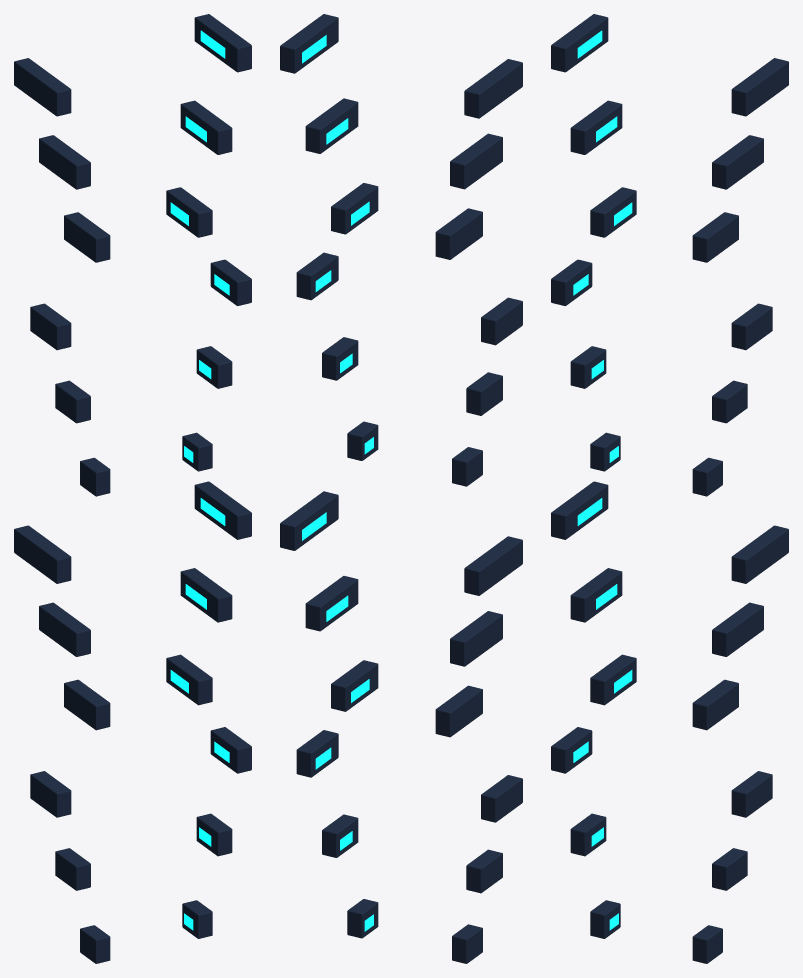
The model's file is NeonCityBackdrop.fbx.
3 renders of one model, left to right at view 1: azimuth 30°, elevation 25°; view 2: azimuth 150°, elevation 25°; view 3: azimuth 330°, elevation 25°, orthographic. The views are drawn at different scales.
Visible parts, largest first — view 1: City_L_11, City_L_05, City_L_10, City_L_04, City_R_05, City_R_11, City_R_04, City_R_10, City_L_03, City_L_09, City_R_09, City_R_03 (+12 smaller); view 2: City_L_05, City_L_11, City_L_10, City_L_04, City_R_11, City_R_05, City_R_10, City_R_04, City_L_09, City_L_03, City_R_03, City_R_09 (+12 smaller); view 3: City_R_11, City_R_05, City_R_10, City_R_04, City_L_05, City_L_11, City_L_04, City_L_10, City_R_03, City_R_09, City_L_09, City_L_03 (+12 smaller).
Boxes of the visible parts, bbox=[...] form: City_L_11: bbox=[14, 58, 71, 116]; City_L_05: bbox=[14, 525, 71, 583]; City_L_10: bbox=[39, 135, 90, 189]; City_L_04: bbox=[39, 602, 90, 656]; City_R_05: bbox=[194, 481, 251, 539]; City_R_11: bbox=[194, 14, 251, 72]; City_R_04: bbox=[180, 568, 232, 622]; City_R_10: bbox=[180, 100, 232, 154]; City_L_03: bbox=[64, 679, 110, 730]; City_L_09: bbox=[64, 212, 110, 262]; City_R_09: bbox=[166, 187, 212, 237]; City_R_03: bbox=[166, 654, 212, 705]; City_L_05: bbox=[464, 536, 522, 595]; City_L_11: bbox=[464, 59, 522, 118]; City_L_10: bbox=[450, 133, 502, 189]; City_L_04: bbox=[450, 611, 502, 666]; City_R_11: bbox=[280, 14, 338, 73]; City_R_05: bbox=[280, 491, 338, 550]; City_R_10: bbox=[305, 98, 358, 153]; City_R_04: bbox=[305, 576, 358, 631]; City_L_09: bbox=[435, 208, 482, 259]; City_L_03: bbox=[435, 685, 482, 737]; City_R_03: bbox=[331, 660, 378, 711]; City_R_09: bbox=[331, 183, 378, 234]; City_R_11: bbox=[731, 58, 788, 116]; City_R_05: bbox=[731, 525, 788, 583]; City_R_10: bbox=[712, 135, 763, 189]; City_R_04: bbox=[712, 602, 763, 656]; City_L_05: bbox=[551, 481, 608, 539]; City_L_11: bbox=[551, 14, 608, 72]; City_L_04: bbox=[570, 568, 622, 622]; City_L_10: bbox=[570, 100, 622, 154]; City_R_03: bbox=[692, 679, 738, 730]; City_R_09: bbox=[692, 212, 738, 262]; City_L_09: bbox=[590, 187, 636, 237]; City_L_03: bbox=[590, 654, 636, 705].
Bounding box in the file's own units: 21 × 90.5 × 8.
